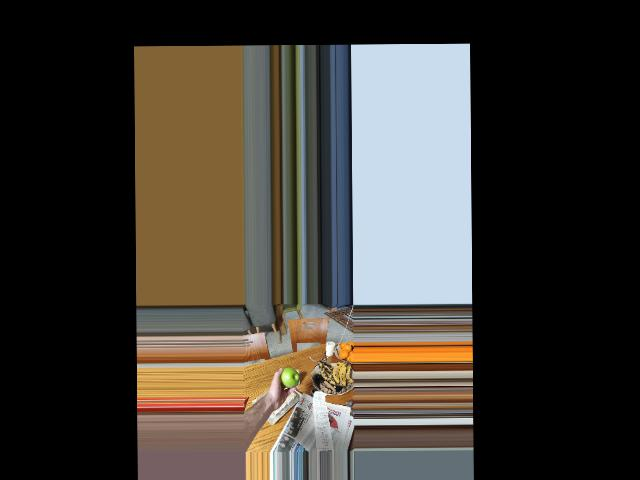apple: (278, 366, 298, 389)
